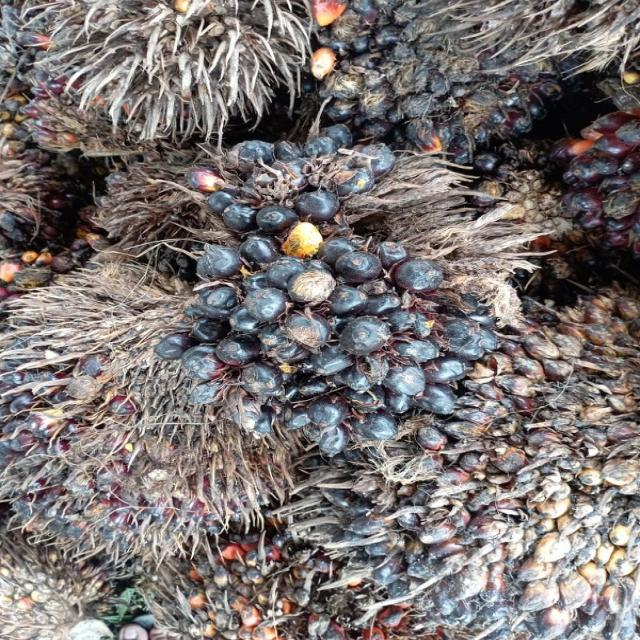fraksi 00: (143, 107, 550, 459), (0, 278, 288, 574)
